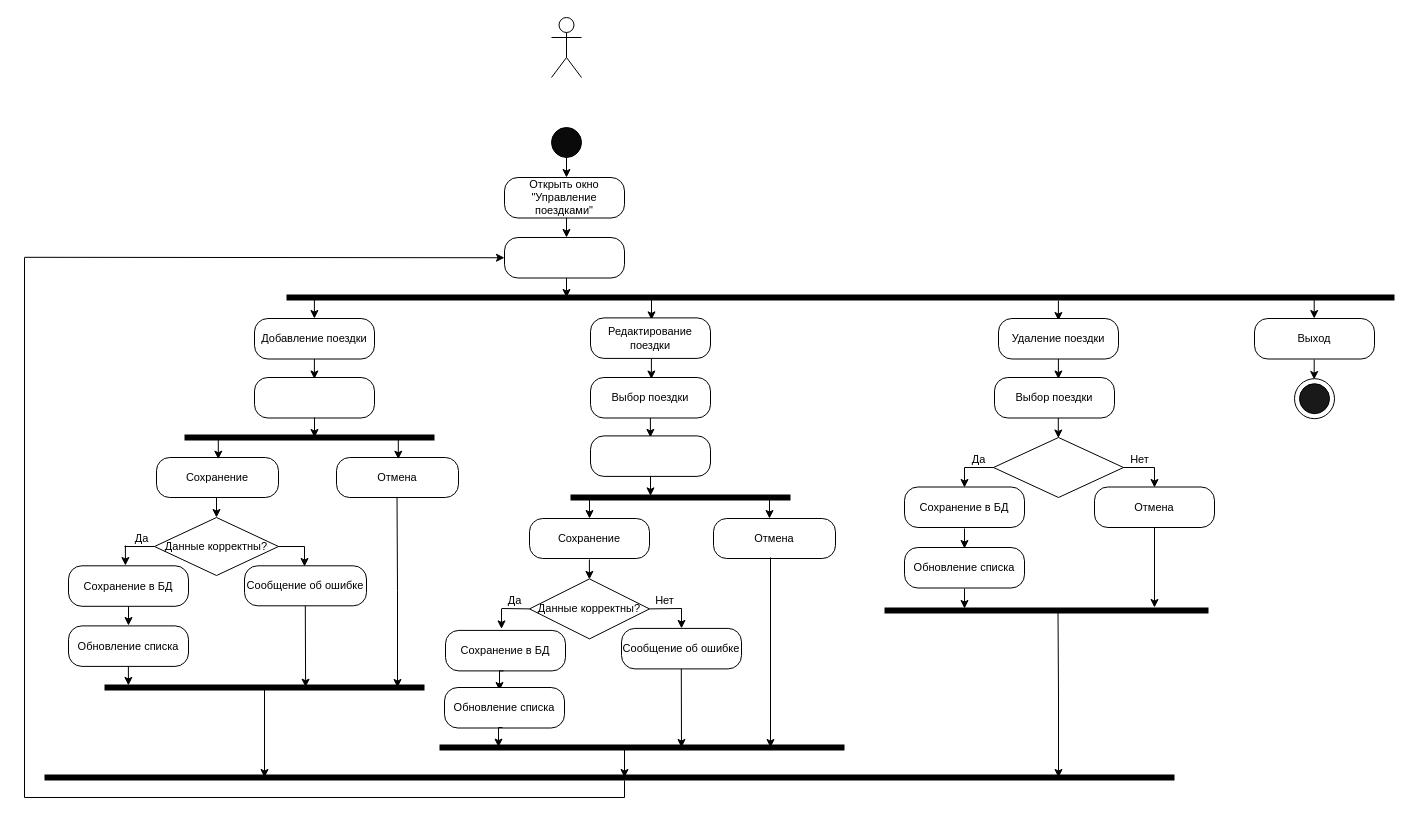
Image size: 1416x816. Some labels were removed from this diagram. Each missing label, with the centre of its shape:
Ввод данных: the point at 314,397
Изменение данных: the point at 650,455
Конец: the point at 566,142
Отобразить список поездок: the point at 564,257
Подтверждено?: the point at 1058,467
Управляющий туристической компании: the point at 566,47
